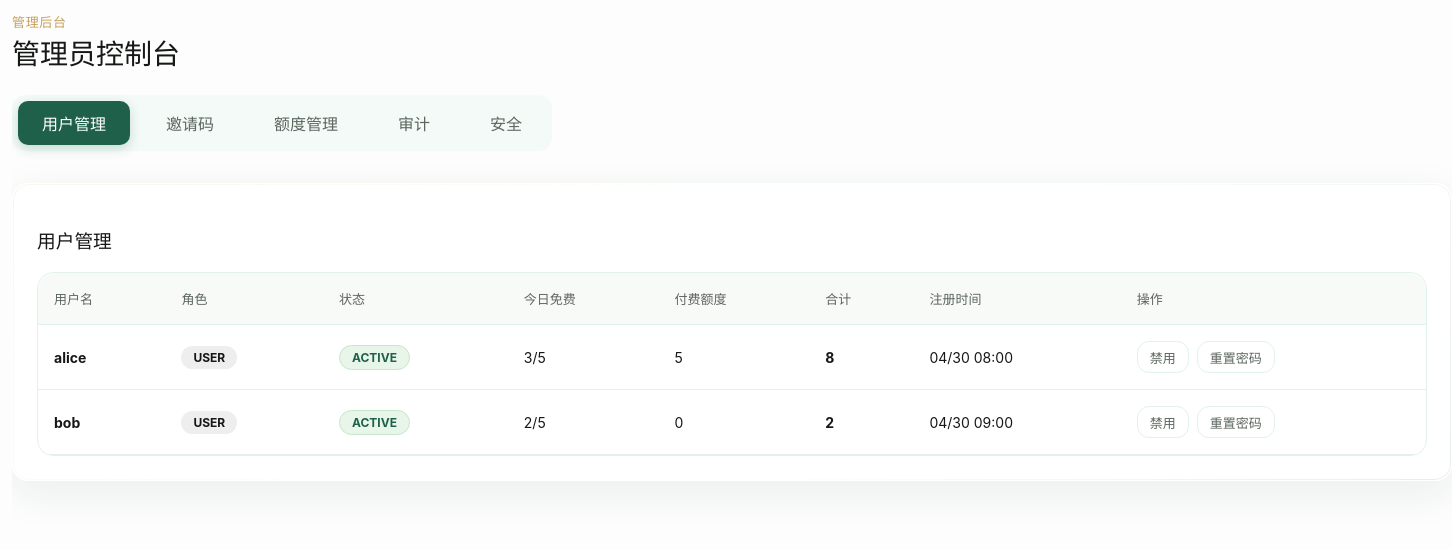
Scenario: AdminPage › updates a user's daily free limit from the credit tab
Click the tab "额度管理" at (306, 123), box [250,101,362,145]
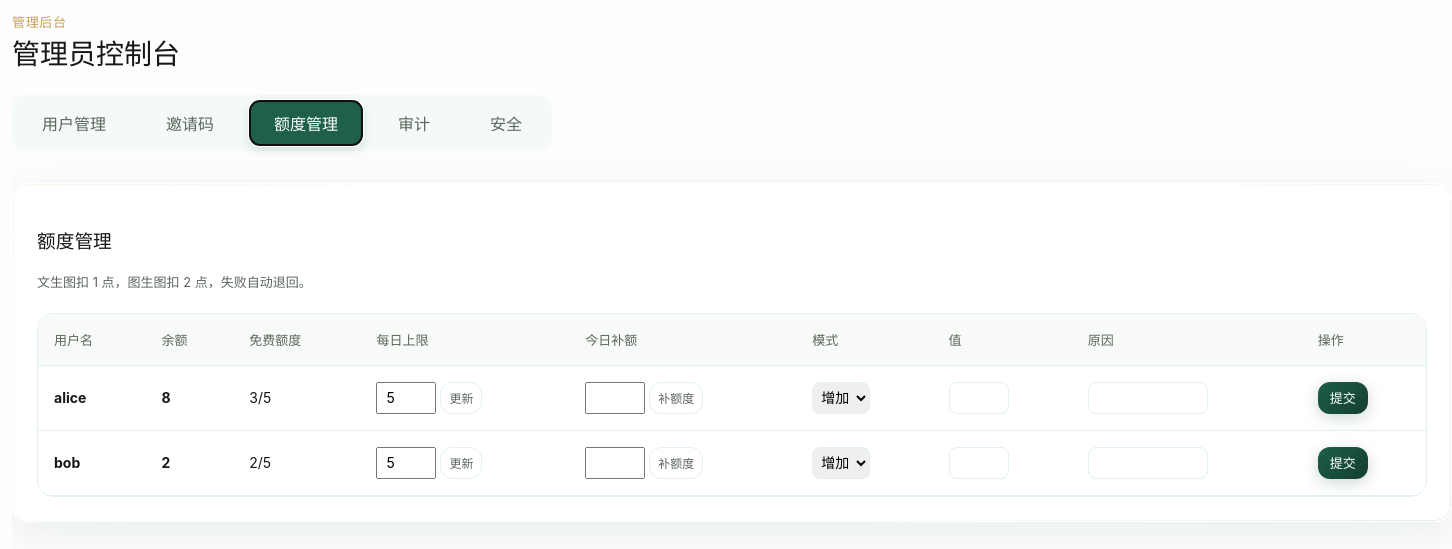
Replace the text in the number field named "每日免费上限" in the row of "alice" with "7" at (406, 398), box [376,382,436,414]
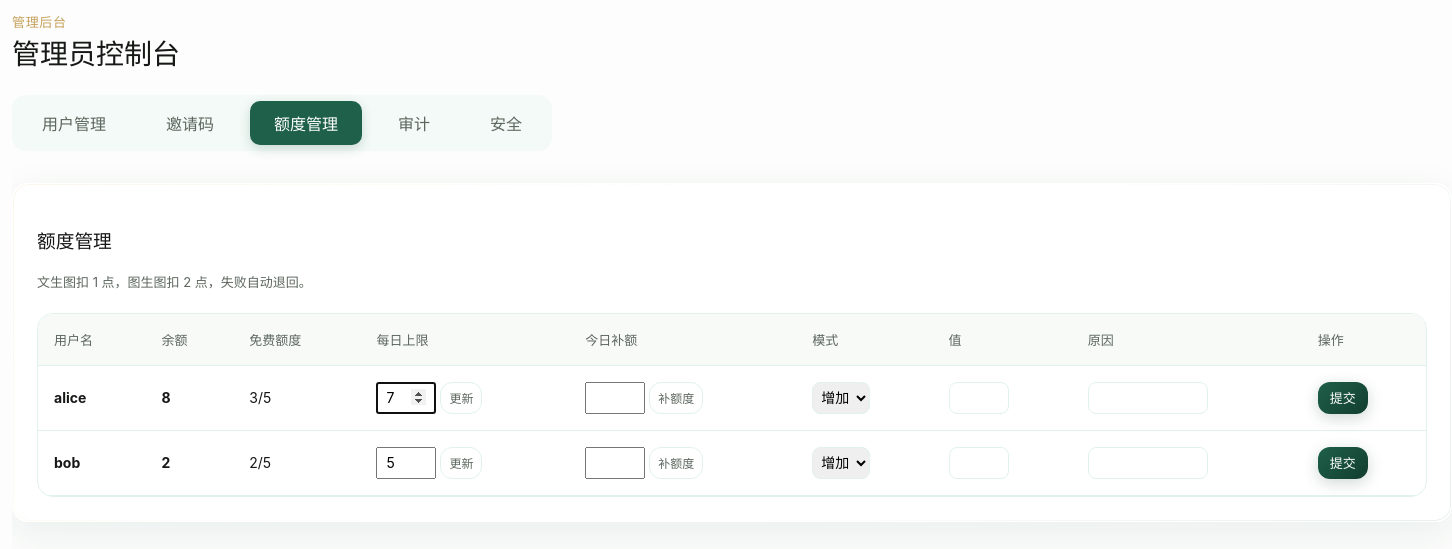
Click the button "更新" in the row of "alice" at (461, 398), box [440,382,482,414]
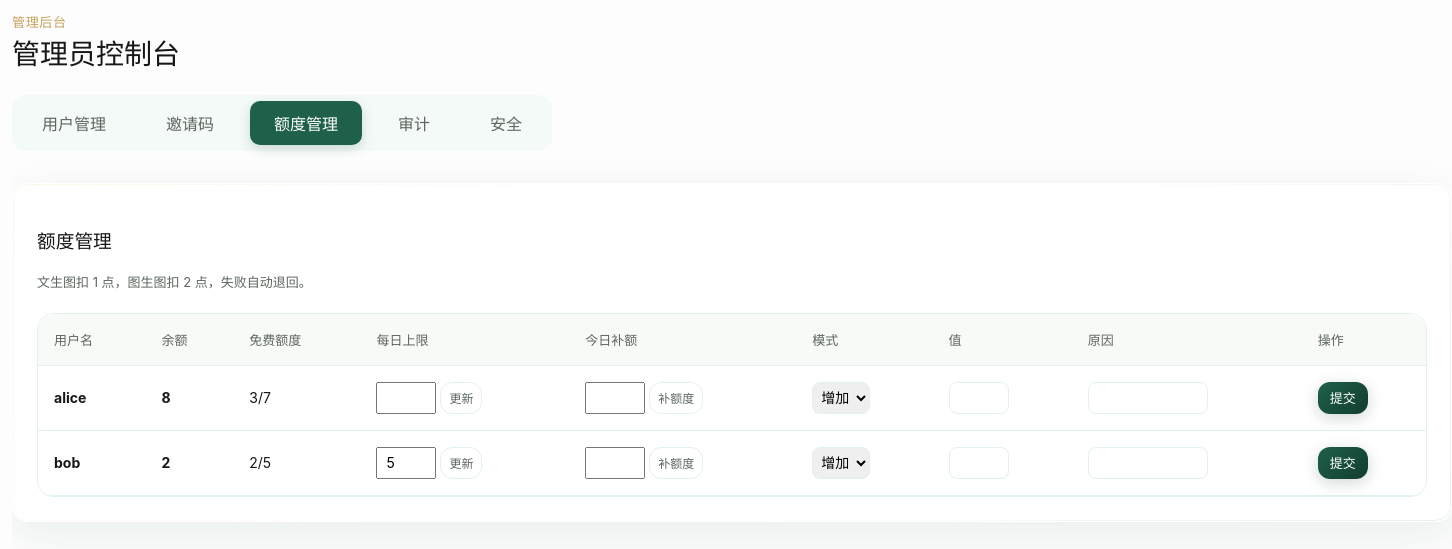
Expected: the text "3/7" is shown, [233,365,360,430]
